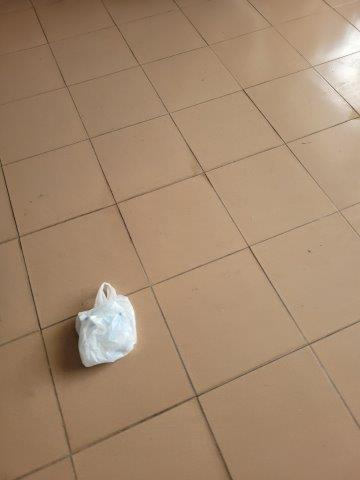plastik: (75, 285, 137, 367)
